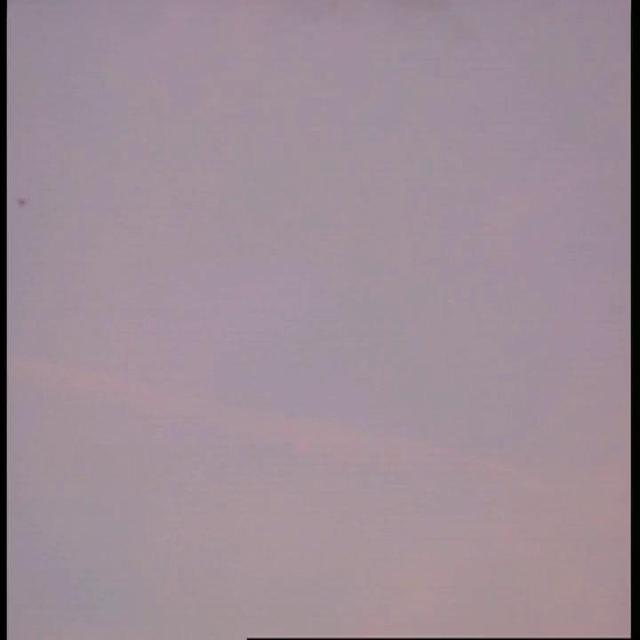drone: (14, 192, 32, 214)
